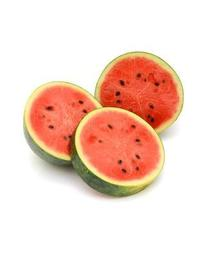watermelon: (23, 50, 185, 197)
